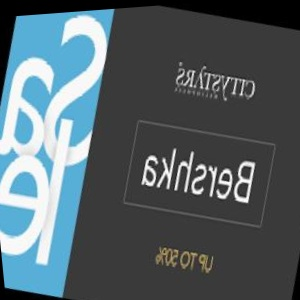bershka: (171, 56, 300, 187)
